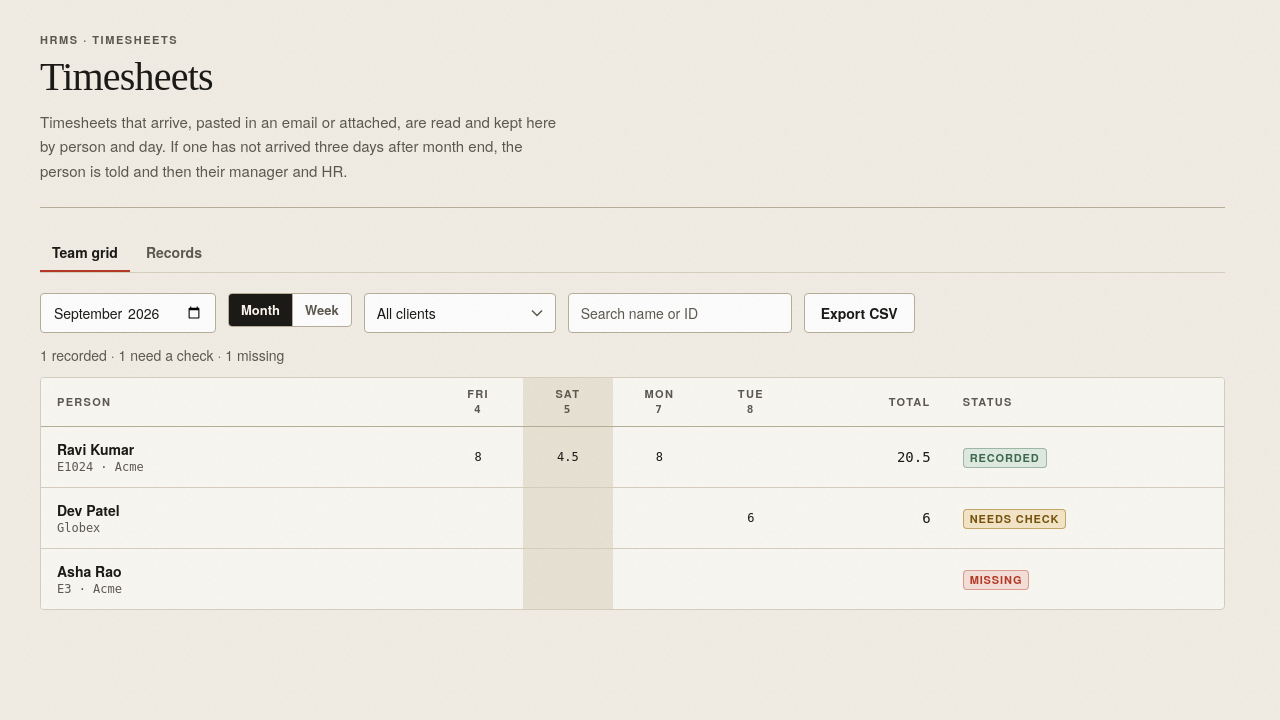
TimesheetsPage › opens a person's record from a cell, with the days, what to check and the email
Click the button named "Ravi Kumar, 5 Sep: 4.5 hours" at (568, 456), box [531,448,605,464]
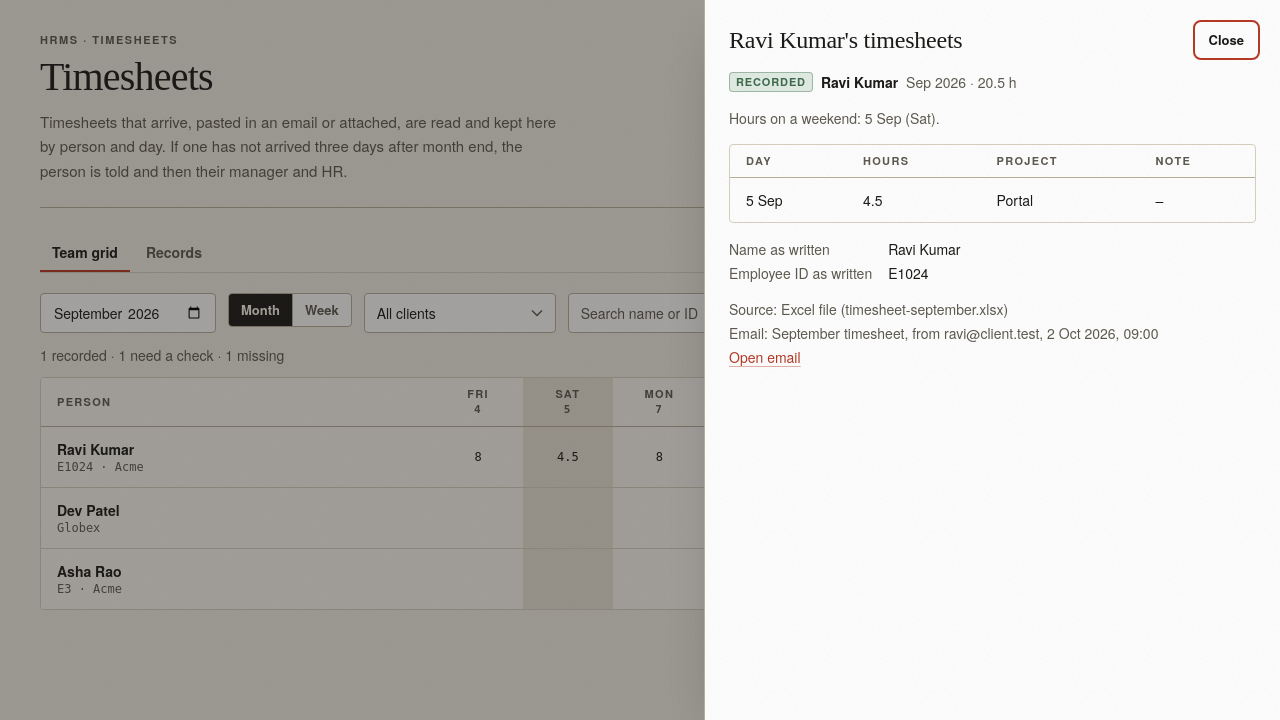
Now the list item "Hours on a weekend: 5 Sep (Sat)." is shown, box [729,108,940,128]
Now the text "Portal" is shown, box [981,177,1140,222]
Now the text "Source: Excel file (timesheet-september.xlsx)" is shown, box [729,299,1008,319]
